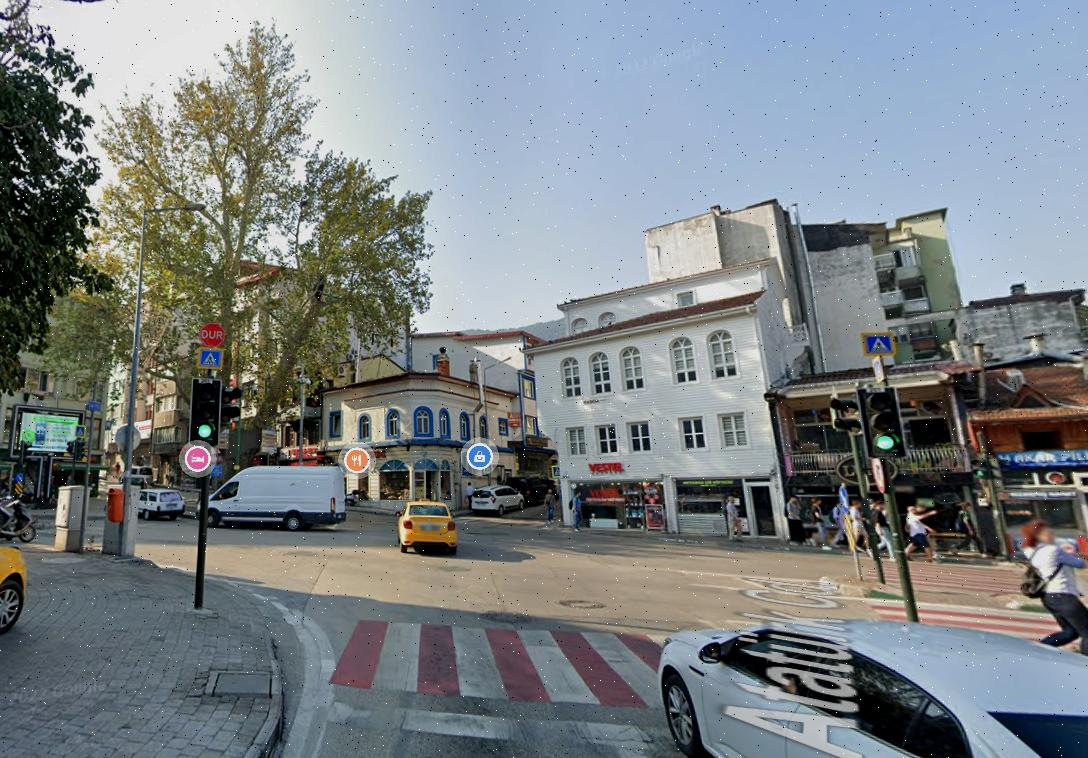greenlight: (864, 387, 906, 455), (192, 378, 216, 440)
stop: (199, 323, 227, 348)
